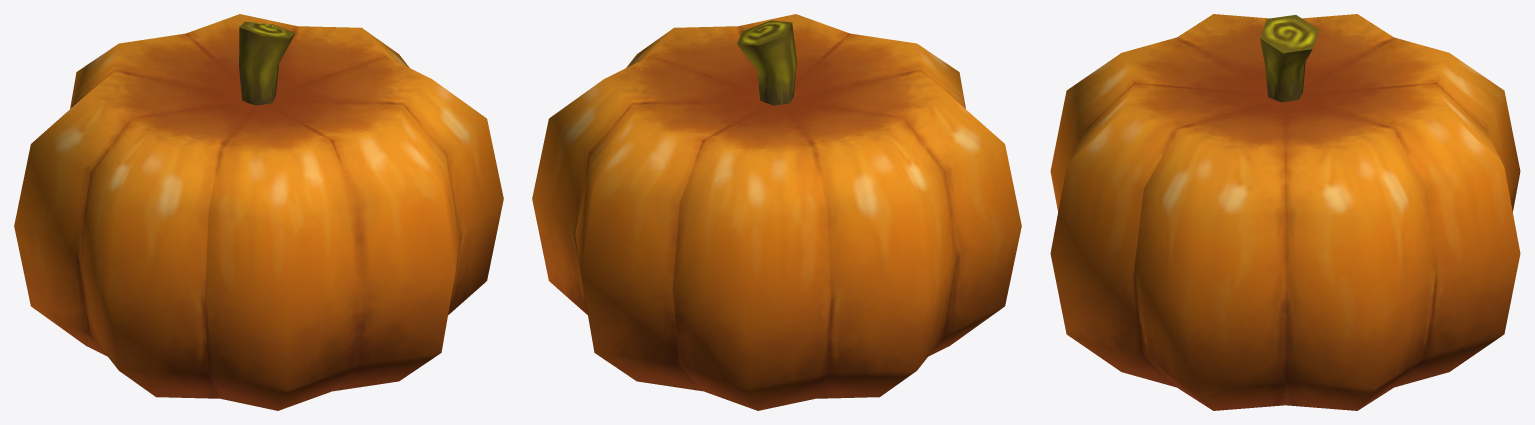
The model's file is pumpkin.fbx.
3 renders of one model, left to right at view 1: azimuth 30°, elevation 25°; view 2: azimuth 150°, elevation 25°; view 3: azimuth 270°, elevation 25°, orthographic. The views are drawn at different scales.
Visible parts, largest first — view 1: pumpkin; view 2: pumpkin; view 3: pumpkin.
Boxes of the visible parts, <box> form: pumpkin: <box>14,14,503,410</box>; pumpkin: <box>532,14,1021,410</box>; pumpkin: <box>1050,14,1520,410</box>.
Size of the model in its own units: 1.33 by 1 by 1.33.
Materials: 1 (1 with a texture image).
